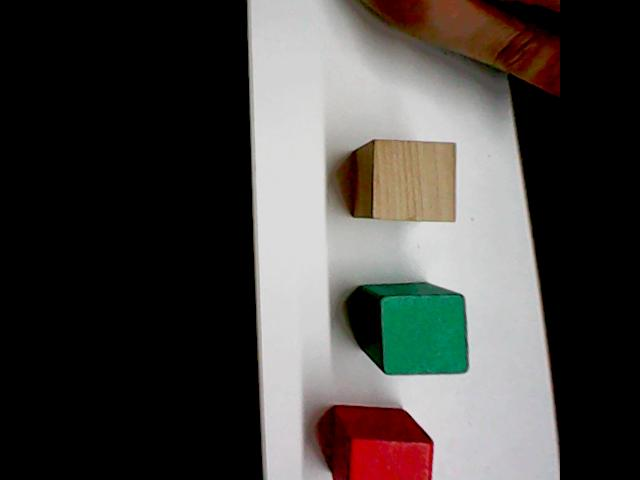green_box: (354, 279, 473, 378)
raw_box: (348, 136, 461, 224)
red_box: (325, 402, 439, 480)
